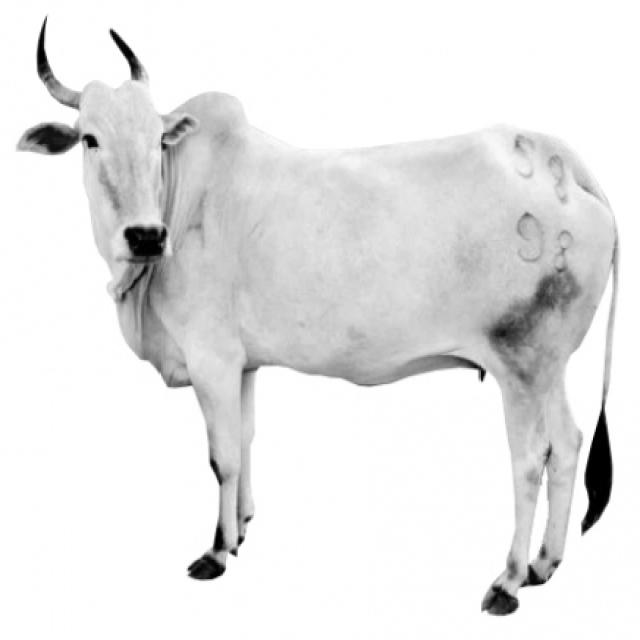Cow: (15, 13, 621, 616)
